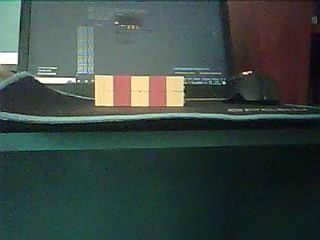lego: (94, 74, 186, 107)
